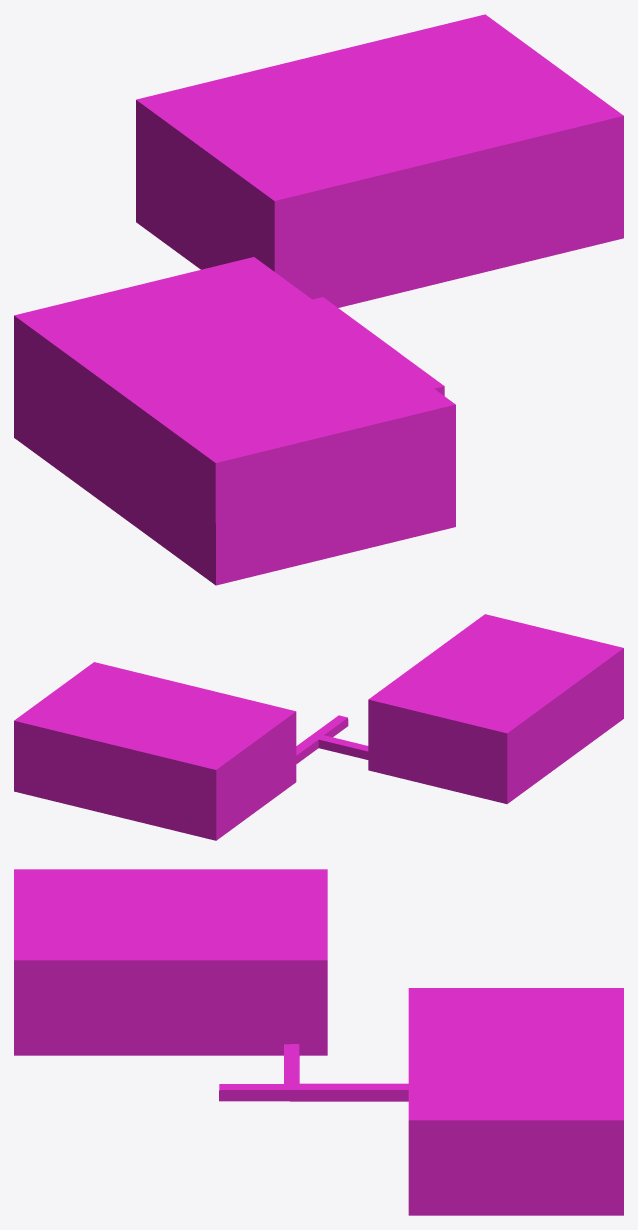
Rendered from halls.fbx.
3 renders of one model, top to bottom at view 1: azimuth 30°, elevation 25°; view 2: azimuth 150°, elevation 25°; view 3: azimuth 270°, elevation 25°, orthographic. The views are drawn at different scales.
Parts seen in each view (by area): view 1: halls_mesh; view 2: halls_mesh; view 3: halls_mesh.
Part boxes in pixels (left/top/right/bottom): halls_mesh: left=14, top=14, right=623, bottom=585; halls_mesh: left=14, top=614, right=623, bottom=840; halls_mesh: left=14, top=869, right=623, bottom=1215.
Size of the model in its own units: 612 by 108 by 628.
